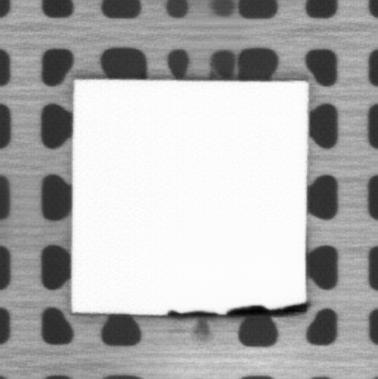DIE_BROKEN: (225, 301, 310, 317), (164, 307, 220, 317)
